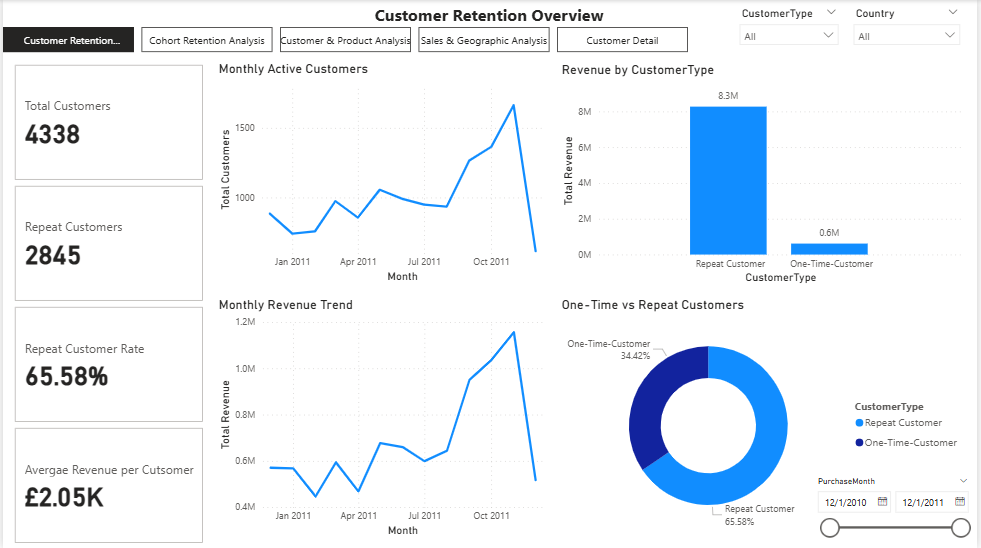

What the dashboard file says about the page in this screenshot:
{"tool":"powerbi","page":{"name":"Customer Retention Overview","canvas":[1280,720],"ordinal":0},"visuals":[{"type":"cardVisual","fields":{"Data":["All Measures.Total Customers","All Measures.Repeat Customers","All Measures.Repeat Customer Rate","All Measures.Avergae Revenue per Cutsomer"]},"box":[10.1,80.6,257,640],"z":0},{"type":"lineChart","title":"Monthly Active Customers ","fields":{"Y":["All Measures.Total Customers"],"Category":["customer_retention_powerbi.PurchaseMonth"]},"box":[278.8,80.6,450.2,295.6],"z":1000},{"type":"lineChart","title":"Monthly Revenue Trend","fields":{"Y":["All Measures.Total Revenue"],"Category":["customer_retention_powerbi.PurchaseMonth"]},"box":[278.8,389.7,450.2,319.2],"z":2000},{"type":"textbox","box":[10.1,0,1256.5,65.5],"z":3000},{"type":"donutChart","title":"One-Time vs Repeat Customers","fields":{"Category":["customer_retention_powerbi.CustomerType"],"Y":["All Measures.Total Customers"]},"box":[729,390,538,319],"z":4000},{"type":"clusteredColumnChart","title":"Revenue by CustomerType","fields":{"Y":["All Measures.Total Revenue"],"Category":["customer_retention_powerbi.CustomerType"]},"box":[729,81,537,296],"z":5000},{"type":"slicer","fields":{"Values":["customer_retention_powerbi.Country"]},"box":[1107,3.4,159.6,62.2],"z":6000},{"type":"slicer","fields":{"Values":["customer_retention_powerbi.CustomerType"]},"box":[957.5,3.4,149.5,63.8],"z":7000},{"type":"slicer","fields":{"Values":["customer_retention_powerbi.PurchaseMonth"]},"box":[1058.3,621.5,221.7,99.1],"z":8000},{"type":"pageNavigator","box":[0,35.2,904.7,33.7],"z":9000}]}

Visuals, with their boxes on the page's 1280x720 design canvas (x1, y1, x2, y2). These are canvas units, not pixel positions in the 981x548 screenshot, which may show the page scaled, cropped or inside an application window:
cardVisual - All Measures.Total Customers x All Measures.Repeat Customers: 10 81 267 721
"Monthly Active Customers " lineChart: 279 81 729 376
"Monthly Revenue Trend" lineChart: 279 390 729 709
textbox: 10 0 1267 66
"One-Time vs Repeat Customers" donutChart: 729 390 1267 709
"Revenue by CustomerType" clusteredColumnChart: 729 81 1266 377
slicer - customer_retention_powerbi.Country: 1107 3 1267 66
slicer - customer_retention_powerbi.CustomerType: 958 3 1107 67
slicer - customer_retention_powerbi.PurchaseMonth: 1058 622 1280 721
pageNavigator: 0 35 905 69
